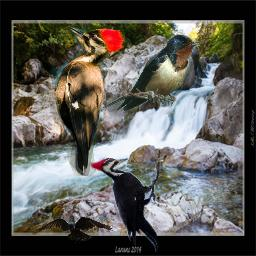Crow: (32, 216, 113, 244)
Swallow: (102, 34, 199, 111)
Woodpecker: (47, 24, 125, 176), (89, 157, 161, 252)
